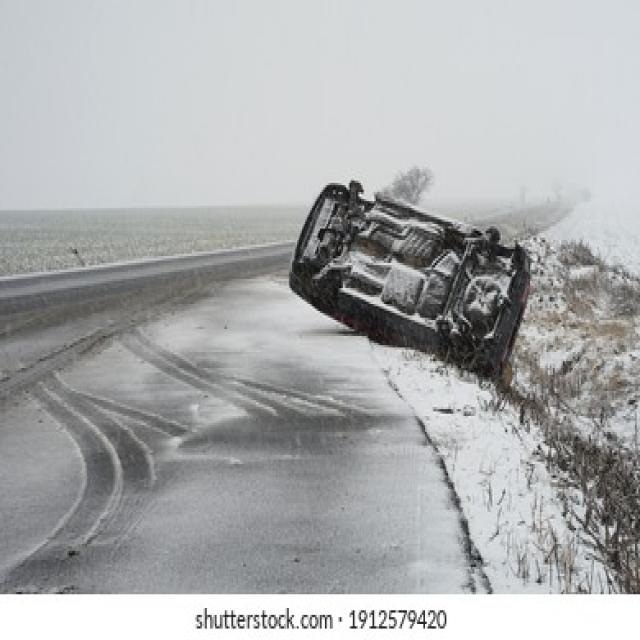Accident: (287, 166, 534, 390)
